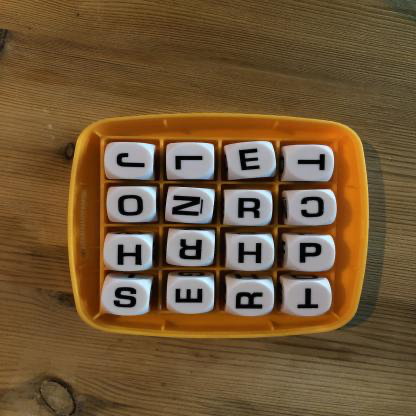c: (286, 190, 335, 226)
e: (226, 145, 274, 180), (168, 278, 214, 314)
h: (107, 234, 154, 272), (228, 234, 275, 271)
j: (107, 145, 154, 179)
l: (168, 145, 215, 180)
n: (166, 189, 213, 223)
o: (108, 188, 157, 223)
p: (288, 237, 336, 272)
r: (224, 191, 272, 227), (228, 281, 275, 317), (169, 231, 214, 268)
s: (107, 278, 150, 315)
t: (286, 147, 334, 184), (284, 282, 328, 317)
